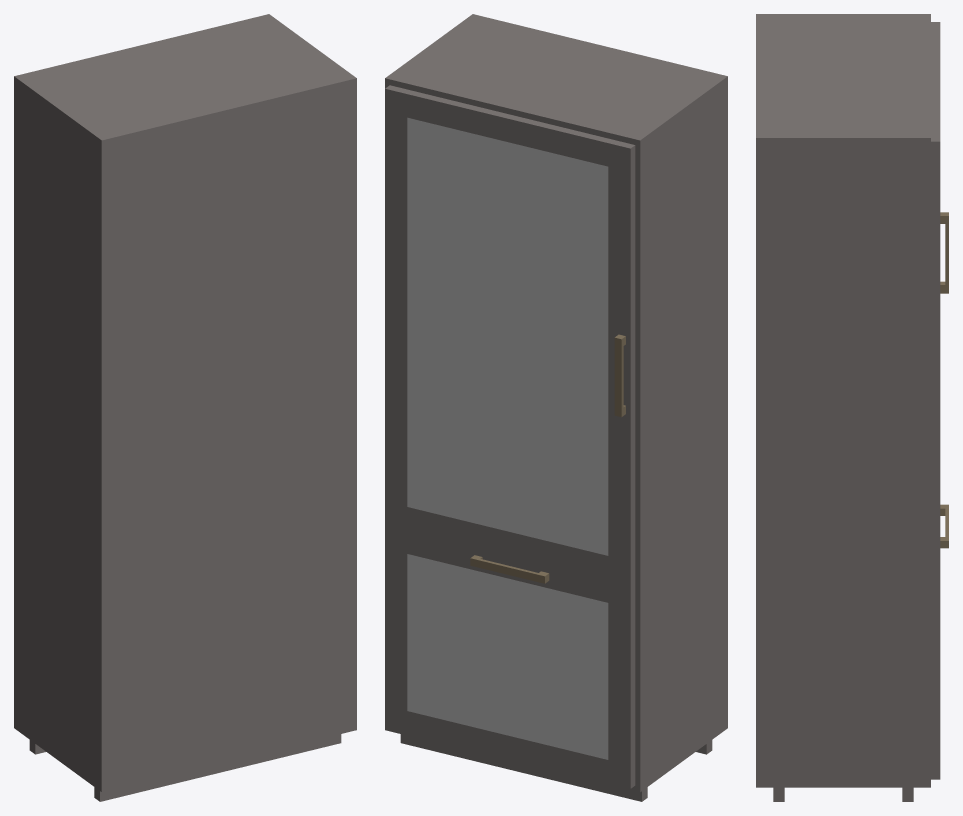
Rendered from SM_Frig_03.fbx.
3 renders of one model, left to right at view 1: azimuth 30°, elevation 25°; view 2: azimuth 150°, elevation 25°; view 3: azimuth 270°, elevation 25°, orthographic.
Parts seen in each view (by area): view 1: SM_Frig_03; view 2: SM_Frig_03; view 3: SM_Frig_03.
Boxes of the visible parts, x1,y1,x2,y2 form: SM_Frig_03: (14,14,356,801); SM_Frig_03: (385,14,727,801); SM_Frig_03: (756,14,948,801).
Bounding box in the file's own units: 93.72 × 235 × 61.6.
1 material, 1 textured.
